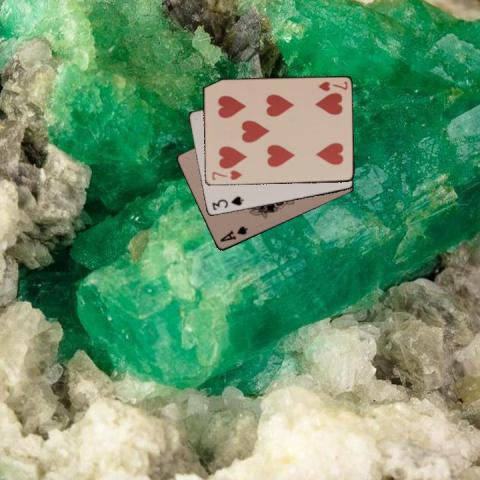3s: (209, 194, 245, 212)
7h: (210, 168, 244, 182), (314, 78, 348, 92)
As: (216, 224, 248, 244)
